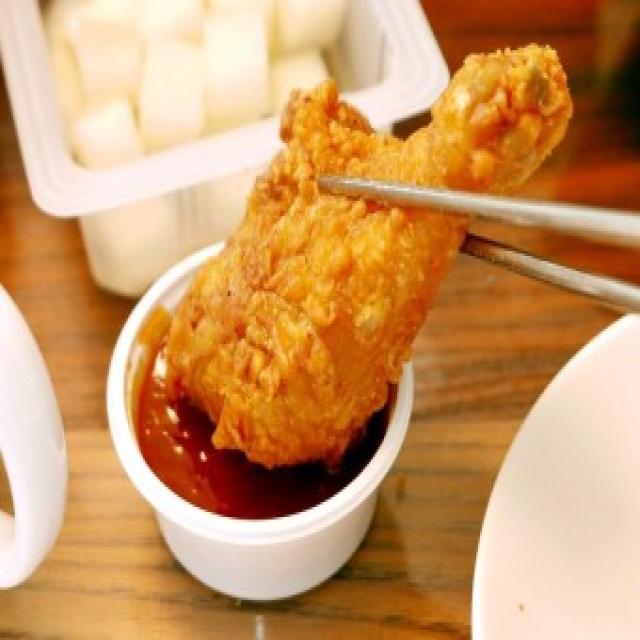Frango: (170, 26, 561, 472)
